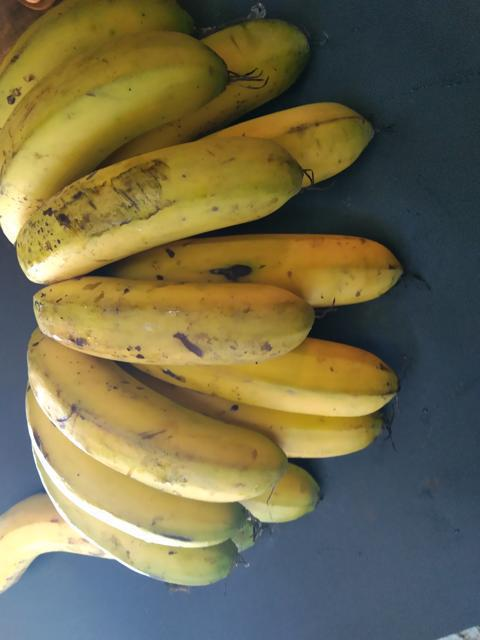ripe: (8, 310, 308, 504), (0, 22, 191, 260), (35, 142, 304, 293), (160, 300, 409, 426), (181, 214, 410, 324), (40, 421, 236, 547), (204, 57, 382, 190), (0, 261, 306, 338)
